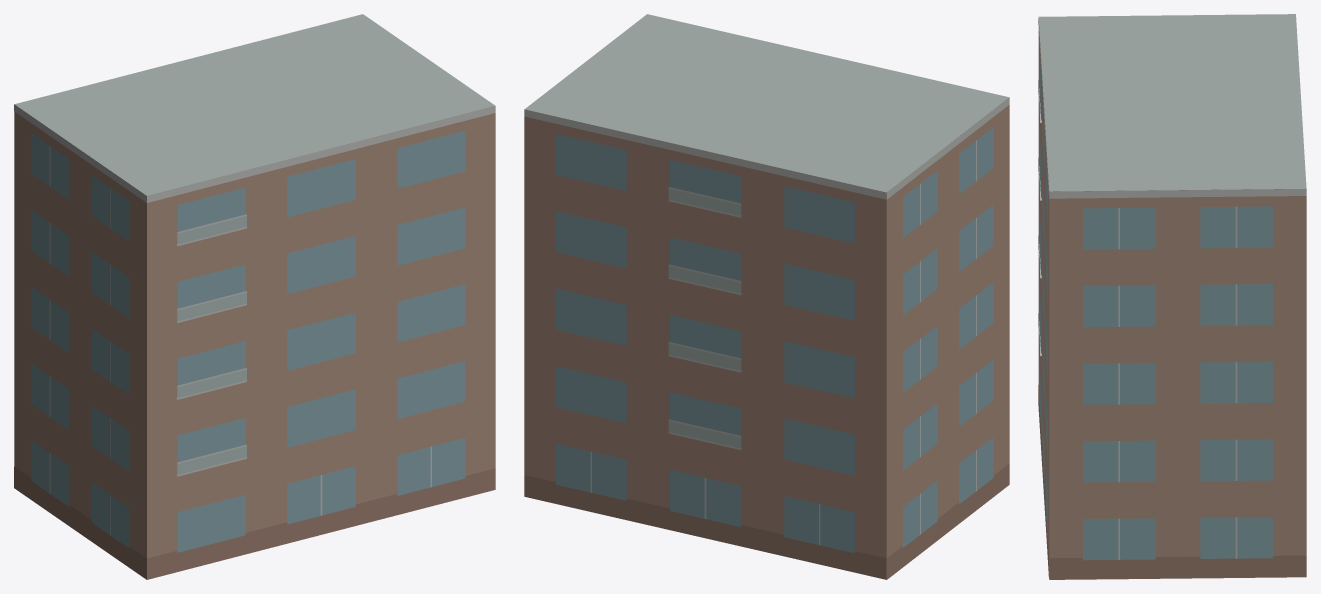
The model's file is survey-upis-32951823.glb.
3 views of the same model, side by side, from view 1: azimuth 30°, elevation 25°; view 2: azimuth 150°, elevation 25°; view 3: azimuth 270°, elevation 25° (orthographic).
Parts seen in each view (by area): view 1: survey-upis-32951823.tmp; view 2: survey-upis-32951823.tmp; view 3: survey-upis-32951823.tmp.
Part boxes in pixels (x1=…): survey-upis-32951823.tmp: x1=14, y1=14, x2=495, y2=579; survey-upis-32951823.tmp: x1=524, y1=14, x2=1009, y2=579; survey-upis-32951823.tmp: x1=1038, y1=14, x2=1306, y2=579.
Size of the model in its own units: 12.95 by 13.2 by 8.27.
